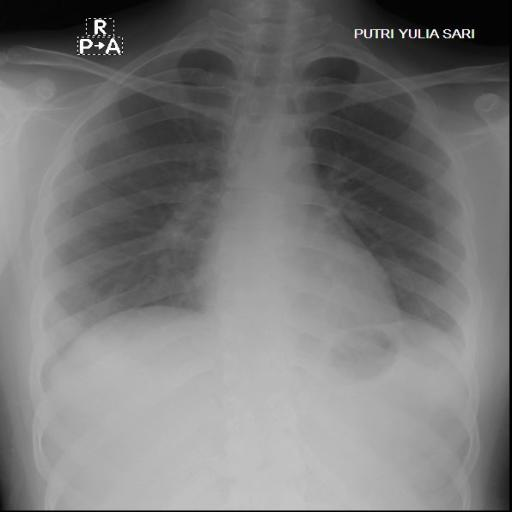normal: (21, 12, 492, 394)
